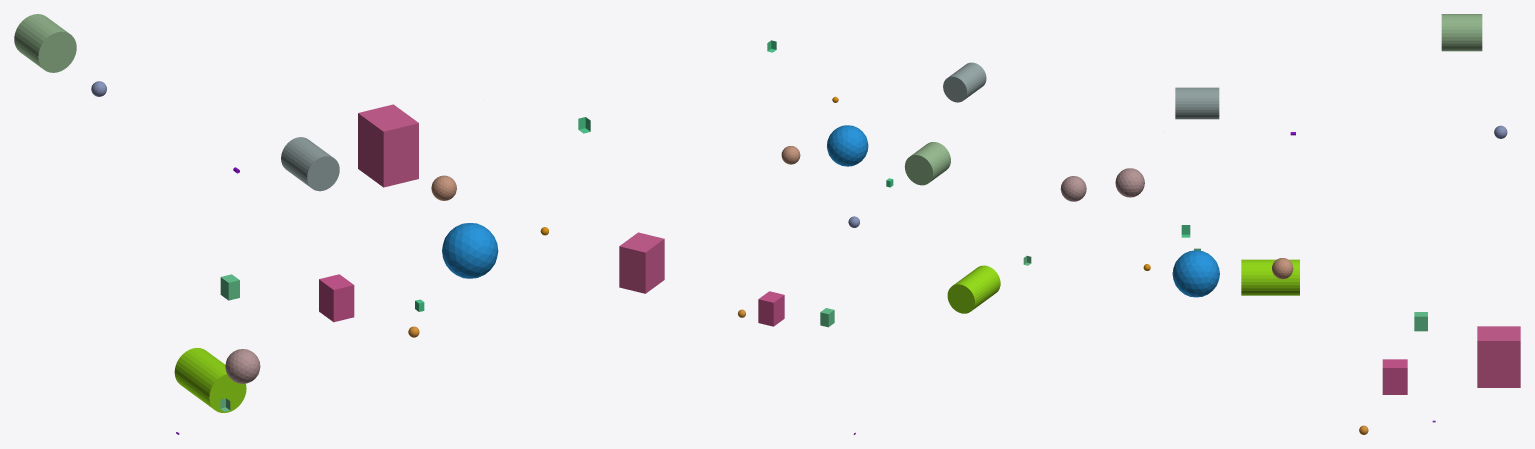
The model's file is formas_básicas_trimesh.glb.
The picture shows the model from 3 angles, left to right: view 1: azimuth 30°, elevation 25°; view 2: azimuth 150°, elevation 25°; view 3: azimuth 270°, elevation 25°; orthographic projection. The views are drawn at different scales.
Visible parts, largest first — view 1: world; view 2: world; view 3: world.
Boxes of the visible parts, x1,y1,x2,y2 form: world: (14, 14, 590, 434); world: (619, 40, 1086, 434); world: (1115, 14, 1520, 434).
Bounding box in the file's own units: 4.01 × 4.07 × 4.17.
